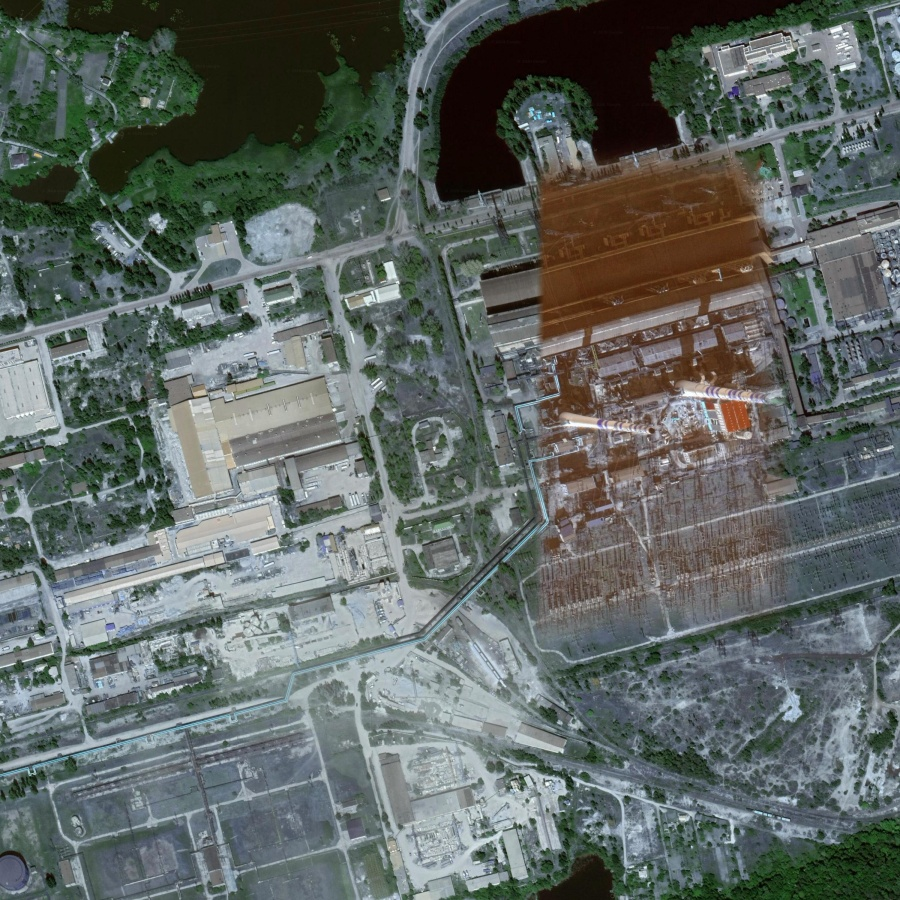PowerPlant: (504, 253, 844, 522)
